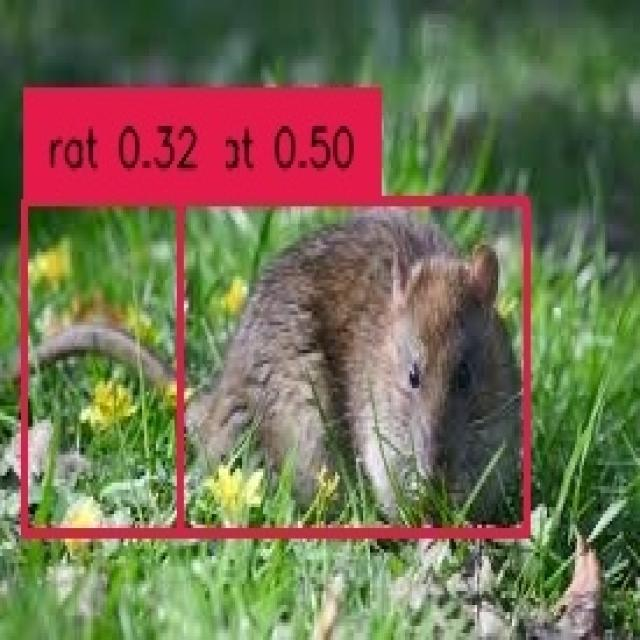rat: (21, 196, 524, 528), (177, 196, 524, 528)
